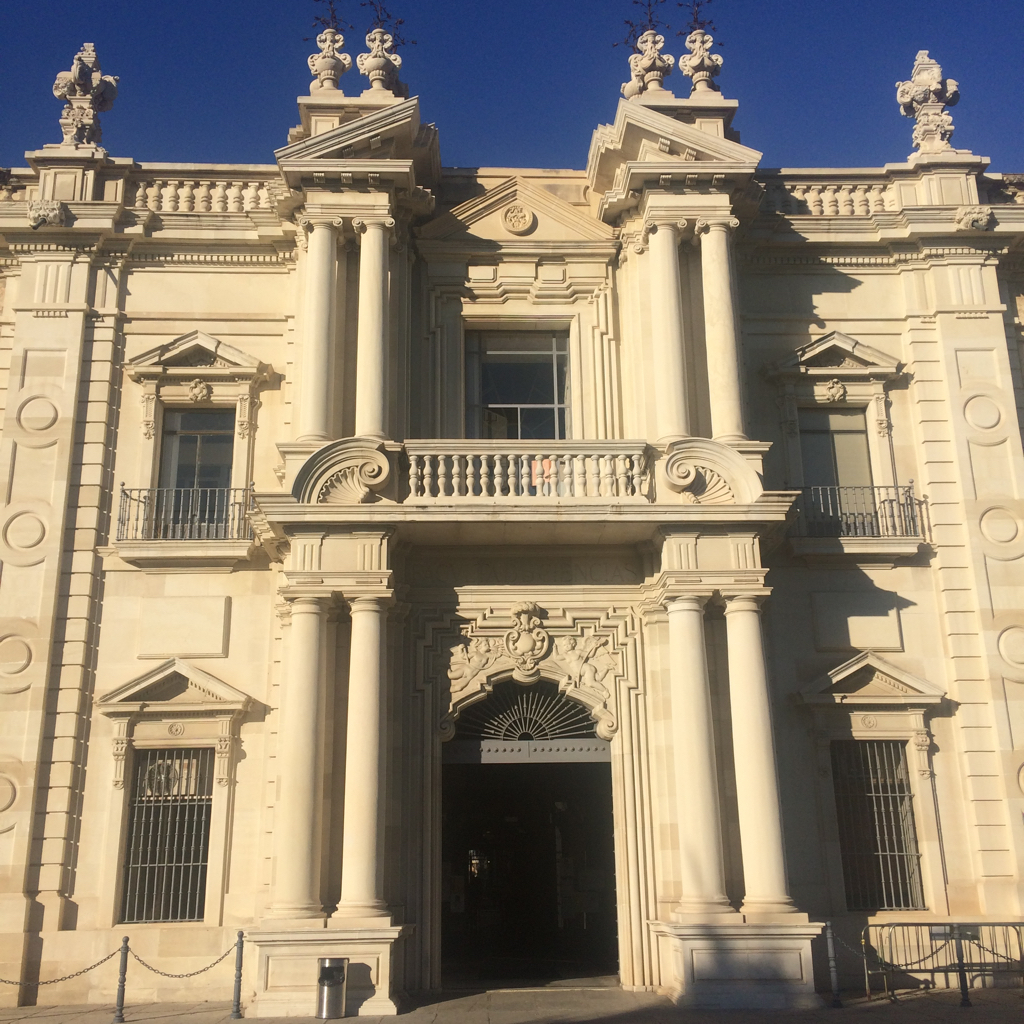fronton: (409, 169, 619, 255), (791, 649, 953, 709), (95, 657, 250, 719), (123, 328, 272, 383), (760, 331, 905, 378)
fronton-partido: (288, 434, 769, 533), (271, 96, 768, 182)
vano-adintelado: (447, 303, 584, 505), (804, 722, 947, 915), (102, 736, 243, 931), (129, 387, 259, 541), (780, 386, 904, 539)
